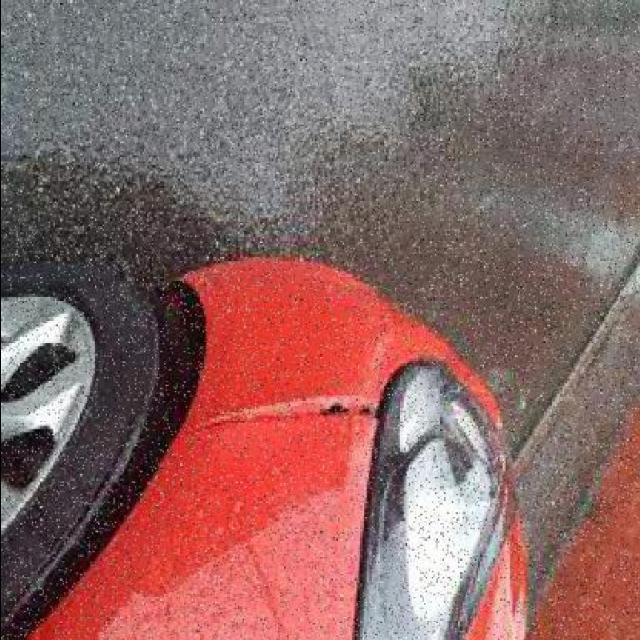front-bumper-dent: (79, 240, 480, 521)
